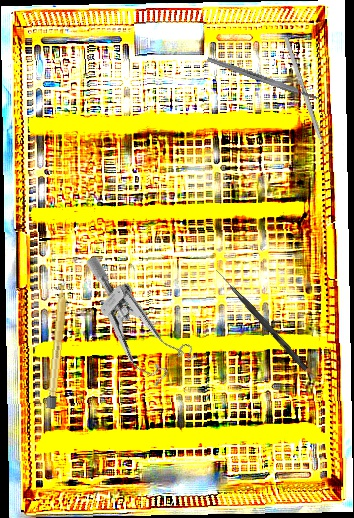Hook Surgical: (212, 268, 310, 371)
Pusher: (283, 36, 333, 169)
Scalpel Handle: (206, 55, 319, 102), (46, 280, 70, 410)
Speculum: (51, 252, 209, 398)
